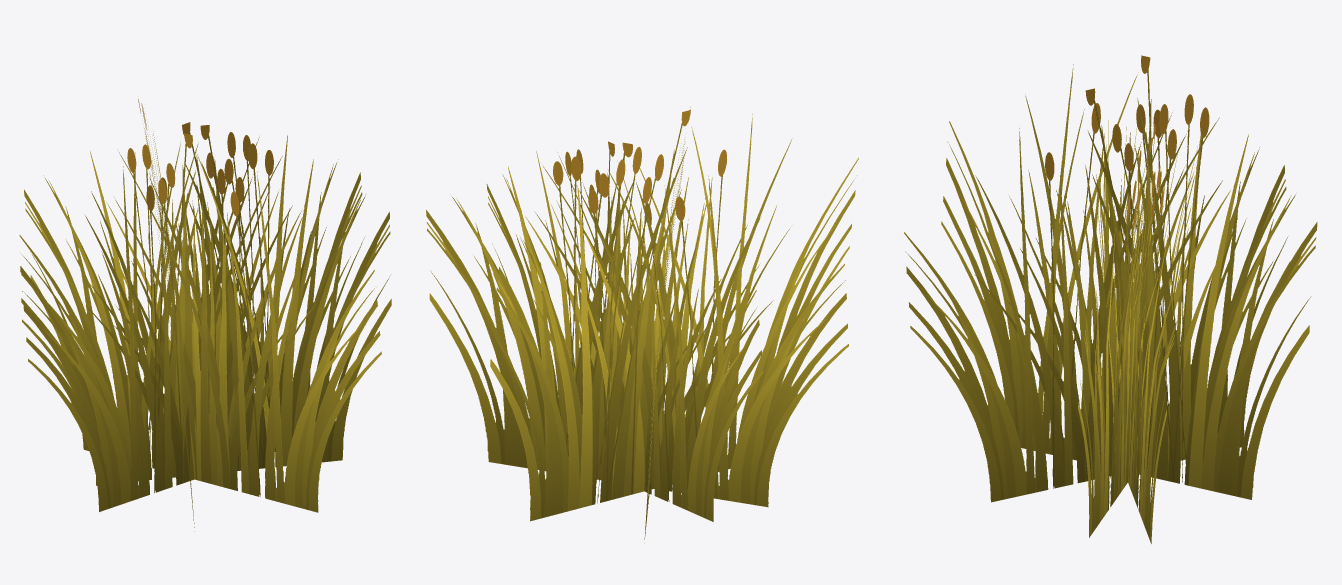
The model's file is tall_grass_1_burnt1.glb.
3 views of the same model, side by side, from view 1: azimuth 30°, elevation 25°; view 2: azimuth 150°, elevation 25°; view 3: azimuth 270°, elevation 25° (orthographic). The views are drawn at different scales.
Visible parts, largest first — view 1: tall_grass_1_burnt1; view 2: tall_grass_1_burnt1; view 3: tall_grass_1_burnt1.
Part boxes in pixels (x1,y1,x2,y2): tall_grass_1_burnt1: [19, 99, 391, 531]; tall_grass_1_burnt1: [426, 106, 858, 539]; tall_grass_1_burnt1: [904, 55, 1317, 543].
Size of the model in its own units: 0.9375 by 0.9163 by 0.9052.
1 material, 1 textured.
